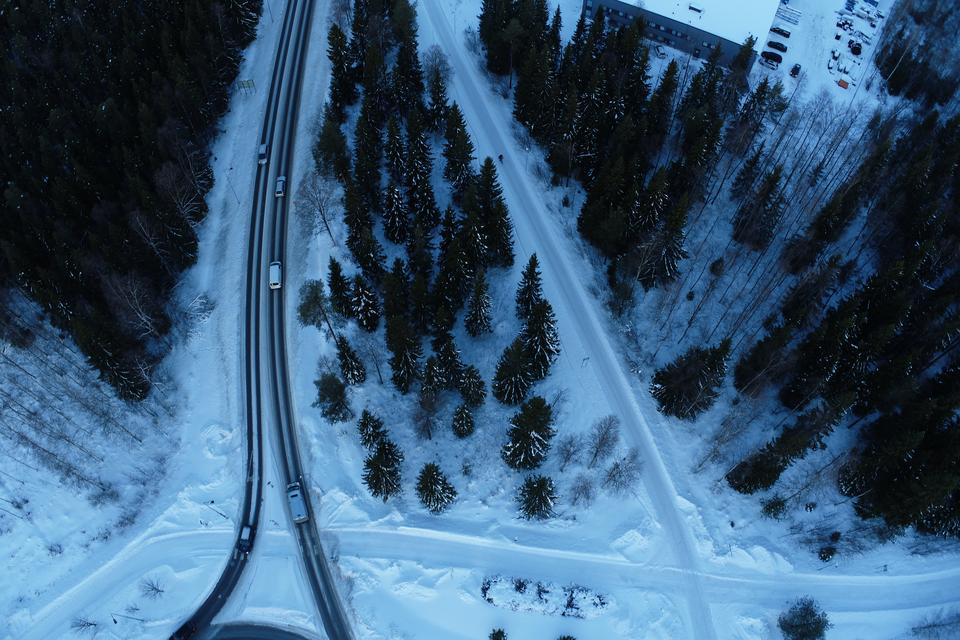intersection: (203, 508, 351, 558)
roundabout: (138, 573, 384, 640)
